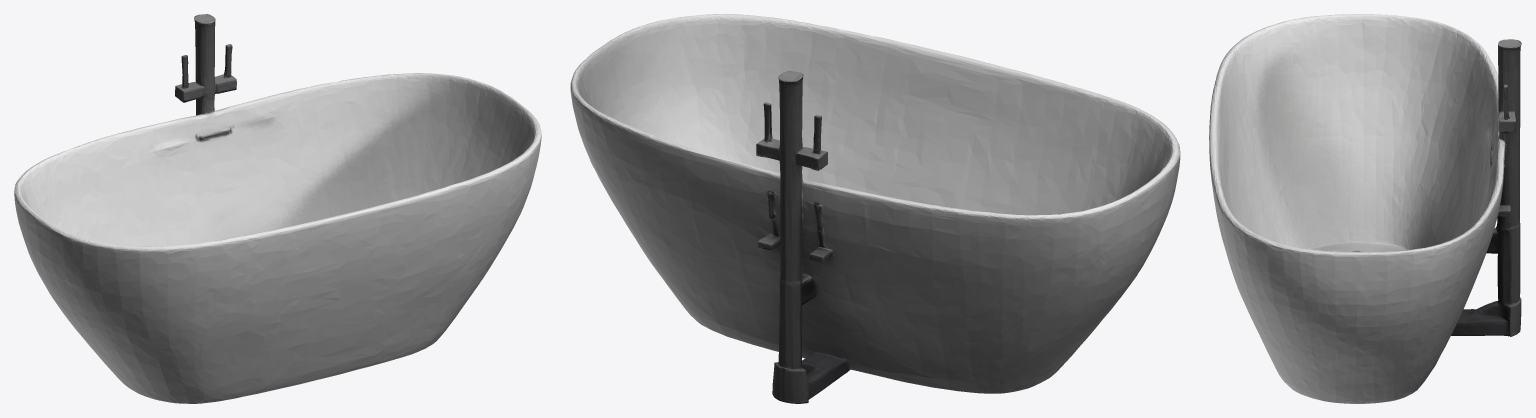
Rendered from 9e4aab16-fe11-4e3e-bfe9-be88d117db56.glb.
The picture shows the model from 3 angles, left to right: view 1: azimuth 30°, elevation 25°; view 2: azimuth 150°, elevation 25°; view 3: azimuth 270°, elevation 25°; orthographic projection. The views are drawn at different scales.
Visible parts, largest first — view 1: world; view 2: world; view 3: world.
Part boxes in pixels (x1,y1,x2,y2): world: (14, 14, 541, 403); world: (570, 14, 1180, 403); world: (1209, 14, 1521, 403).
Size of the model in its own units: 0.9996 by 0.5538 by 0.5489.
1 material, 1 textured.
